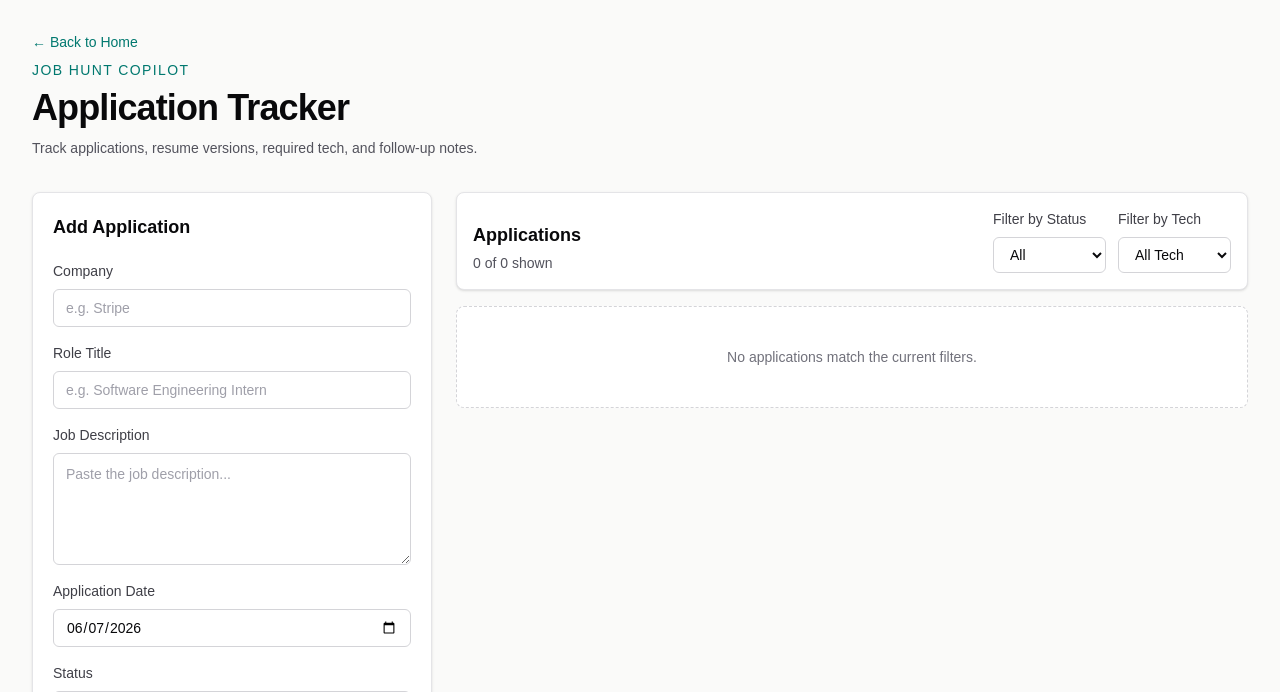
it: Application Tracker › deletes an application
Expected: the text "0 of 0 shown" is shown, [473,255,552,271]
Type "OpenAI" into the field labelled "Company".
click(232, 308); type("OpenAI")  # box [53,289,411,327]
Type "Software Engineering Intern" into the field labelled "Role Title".
click(232, 390); type("Software Engineering Intern")  # box [53,371,411,409]
(page scrolled)
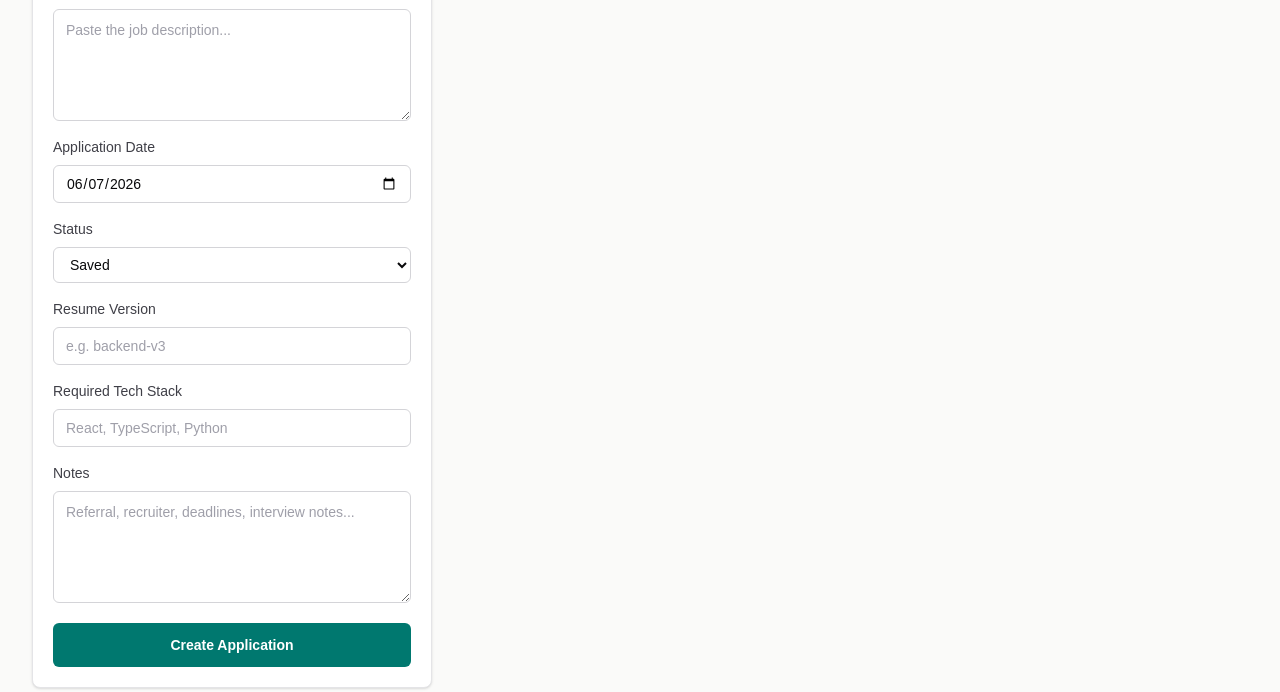
Type "React" into the field labelled "Required Tech Stack".
click(232, 428); type("React")  # box [53,409,411,447]
Select "Applied" in the dropdown labelled "Status" at (232, 265), box [53,247,411,283]
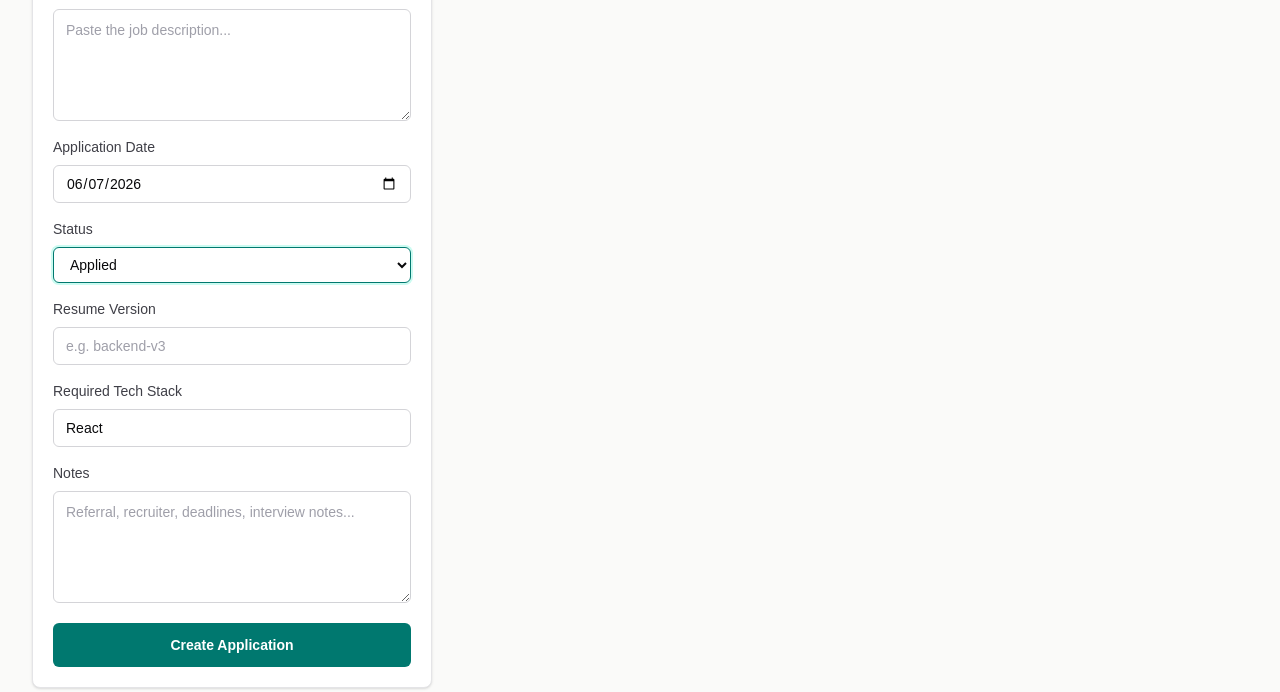
Type "software-v1" into the field labelled "Resume Version".
click(232, 346); type("software-v1")  # box [53,327,411,365]
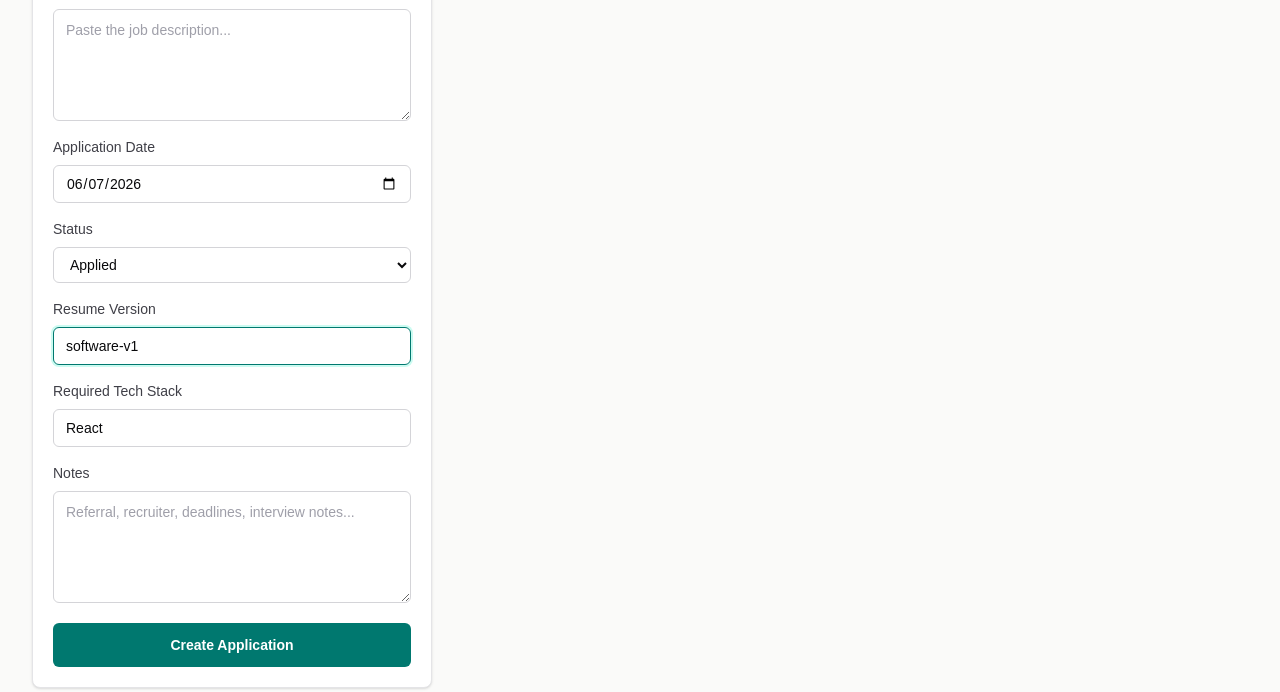
Type "Applied through company website." into the text box labelled "Notes".
click(232, 547); type("Applied through company website.")  # box [53,491,411,603]
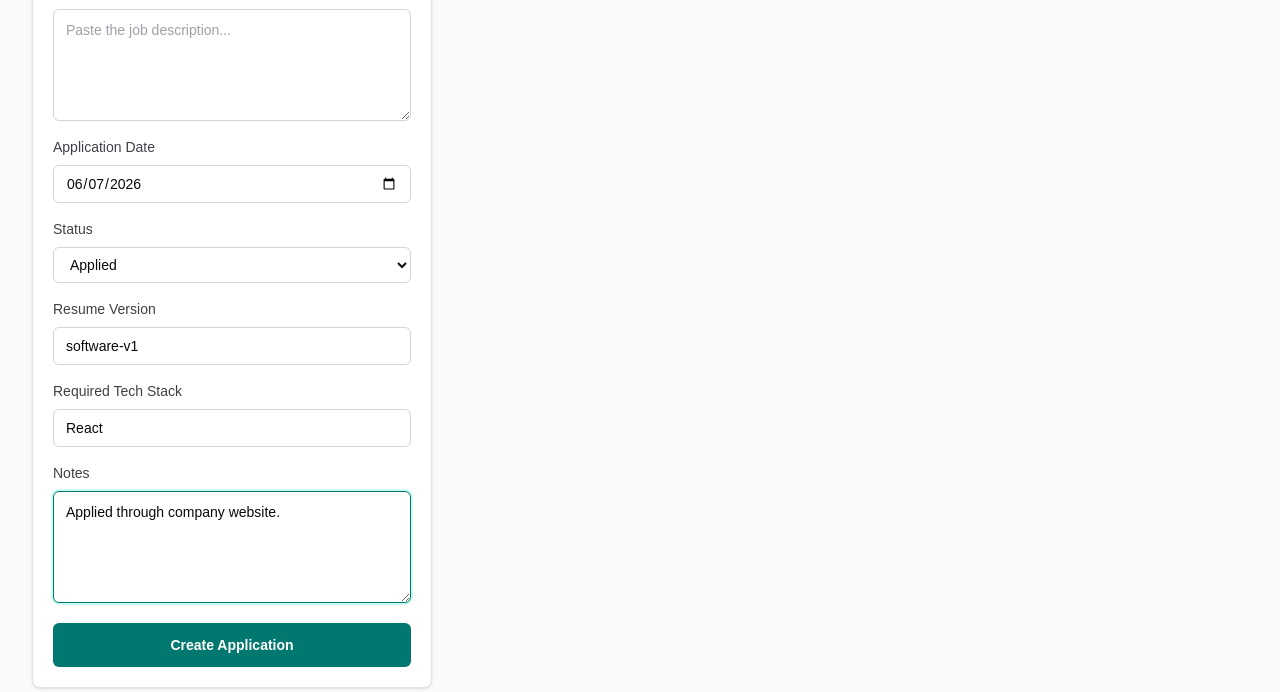
Click the button "Create Application".
click(232, 645)  # box [53,623,411,667]
(page scrolled)
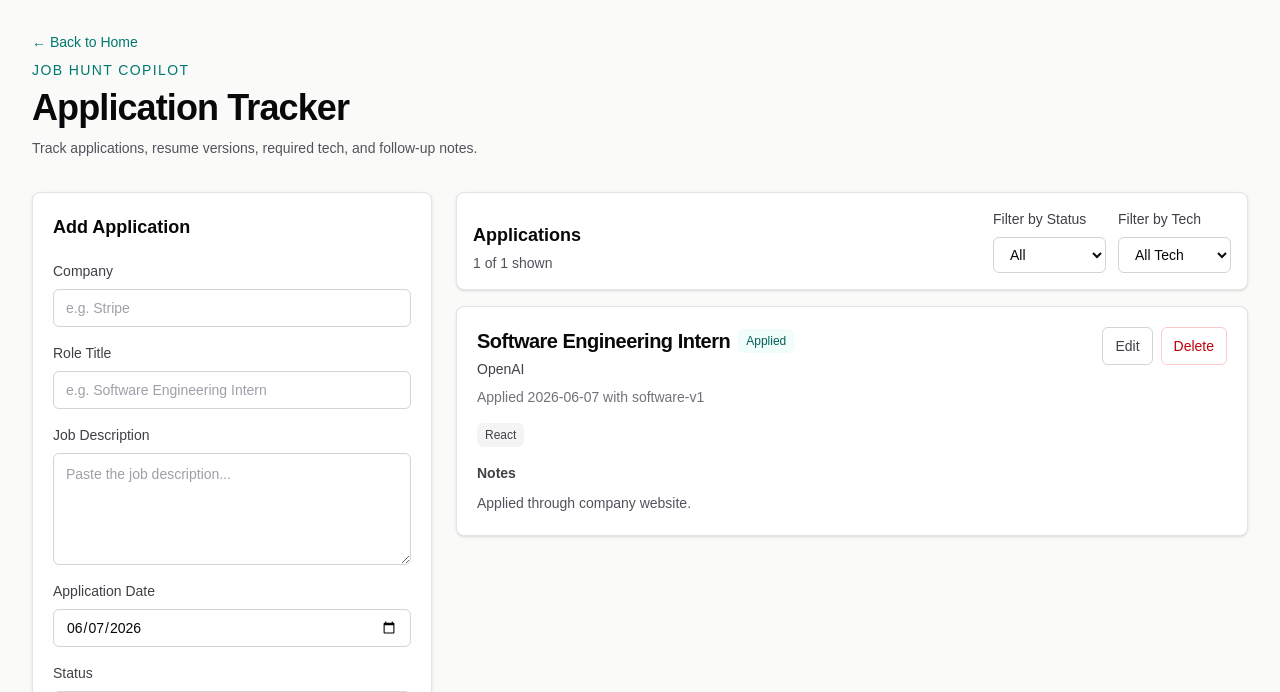
Result: the heading "Software Engineering Intern" is shown at [477,327,730,355]
Result: the text "1 of 1 shown" is shown at [473,255,552,271]
Click the button "Delete".
click(1194, 346)  # box [1160,327,1227,365]
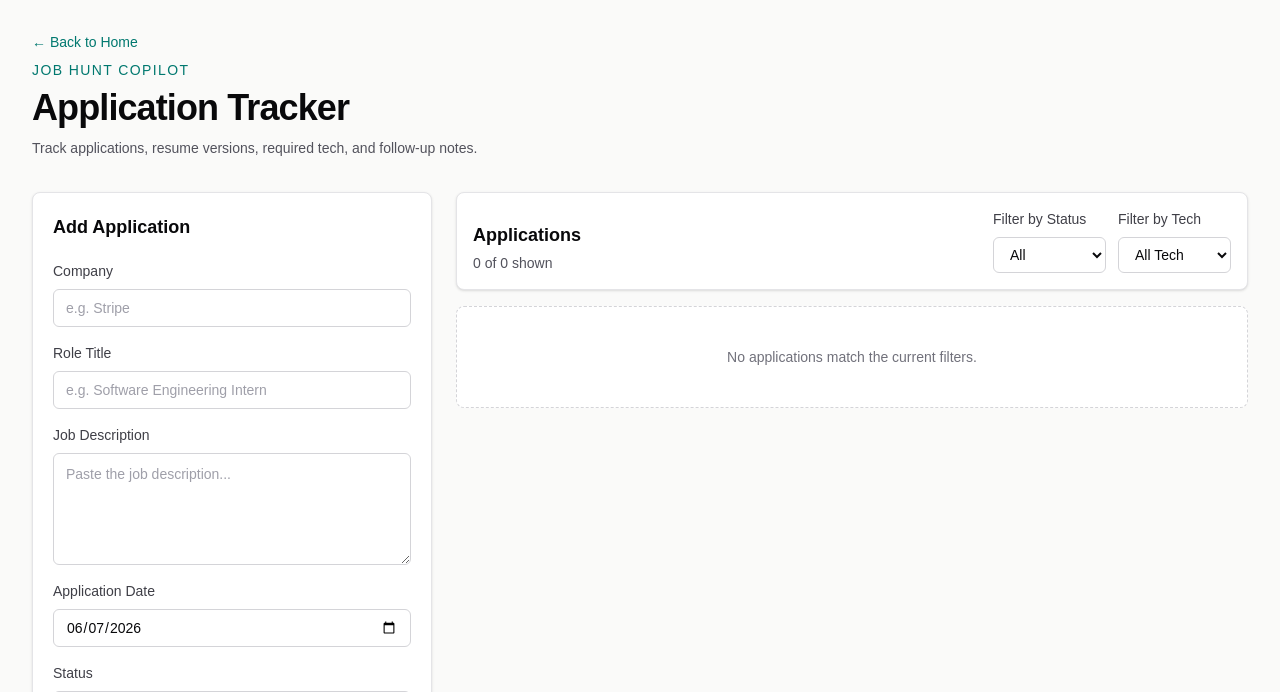
Result: the text "OpenAI" is gone
Result: the text "0 of 0 shown" is shown at [473,255,552,271]
Result: the text "No applications match the current filters." is shown at [456,306,1248,408]
